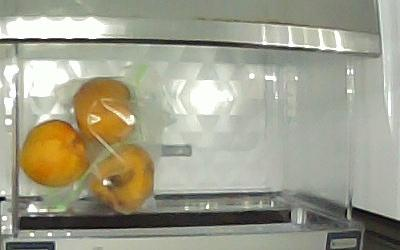peach: (19, 120, 89, 189)
peach_vinyl: (89, 147, 154, 215), (73, 77, 137, 146)
